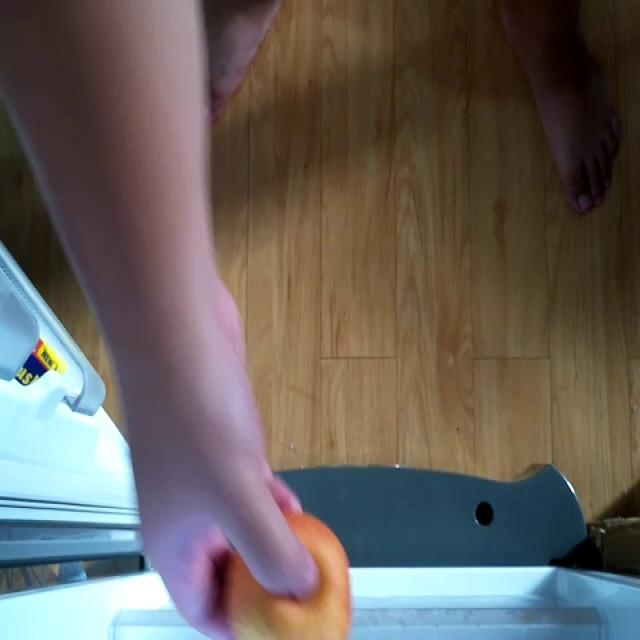apple: (231, 513, 350, 640)
